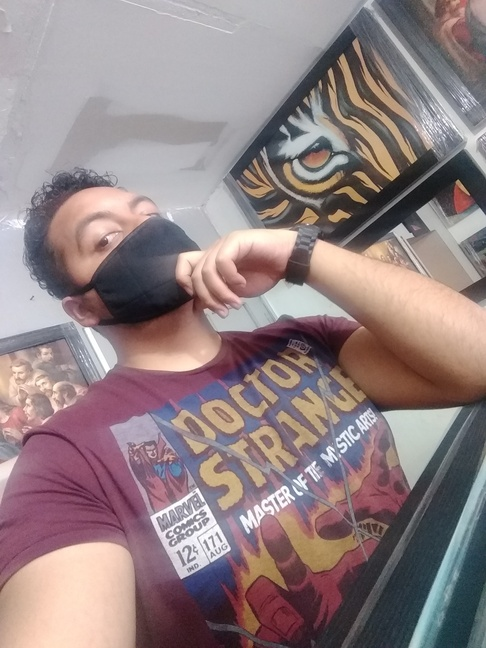Yoshi: (5, 151, 246, 365)
